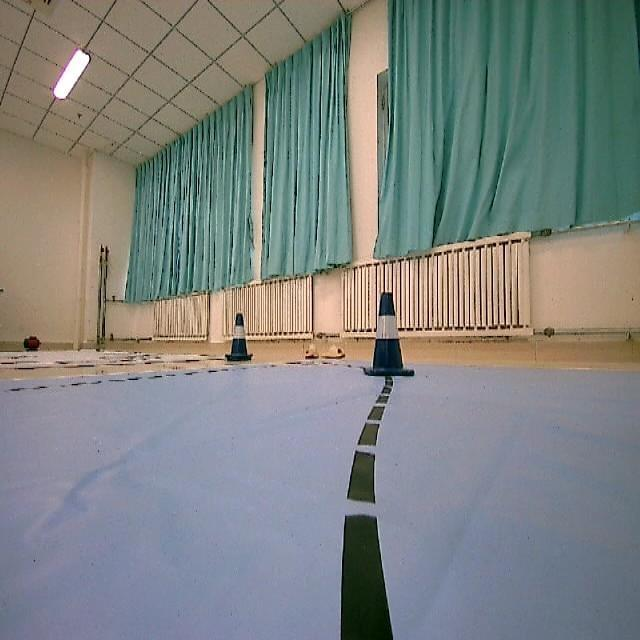obstacle: (354, 292, 419, 382), (222, 308, 260, 369)
